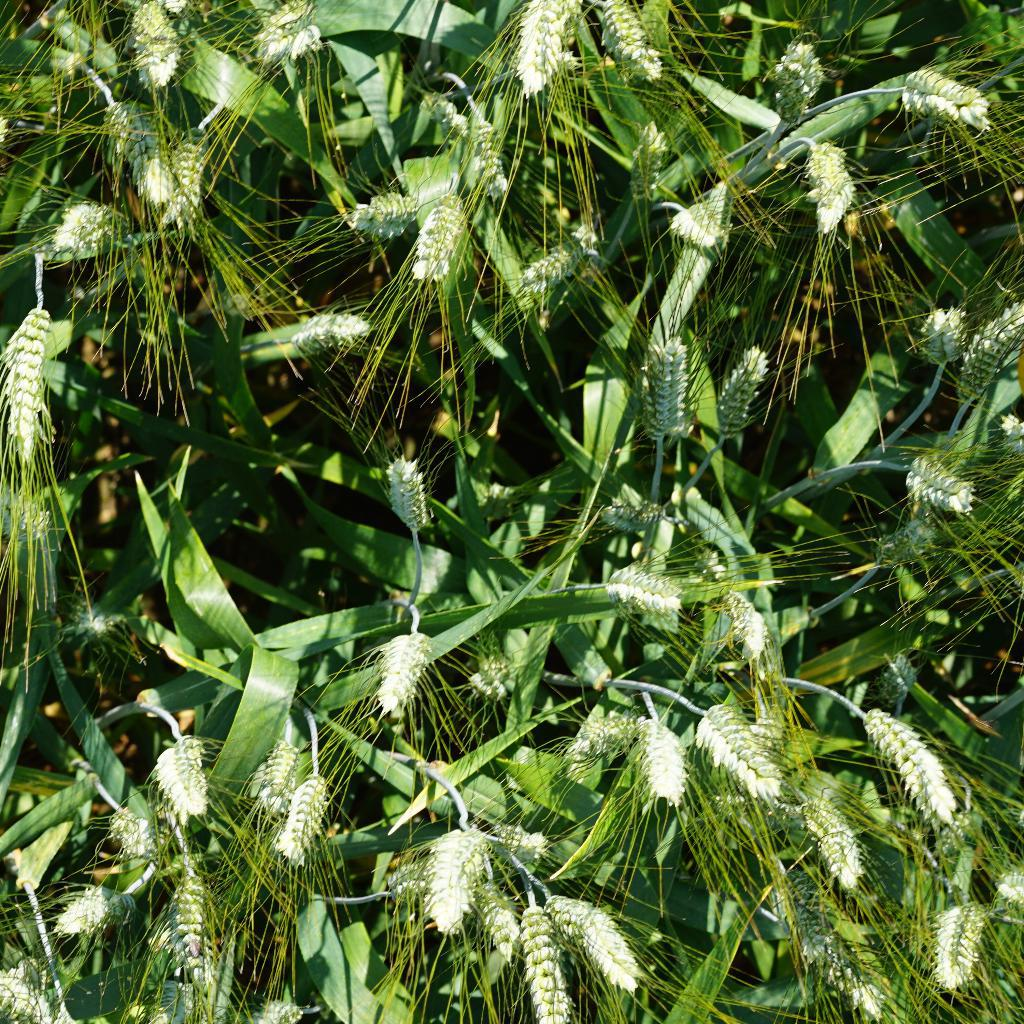0-0: (866, 705, 971, 830), (791, 905, 894, 1024), (546, 890, 653, 1001), (695, 698, 802, 806), (0, 288, 62, 468), (93, 81, 179, 210), (501, 885, 580, 1024), (888, 53, 1005, 139), (791, 774, 873, 892), (419, 807, 485, 948), (156, 845, 223, 976), (411, 185, 481, 298), (511, 219, 605, 303), (277, 751, 342, 870), (589, 0, 671, 93), (110, 0, 194, 90), (919, 896, 996, 994), (514, 0, 587, 103), (796, 137, 869, 234), (43, 863, 144, 933), (960, 294, 1023, 403), (373, 623, 441, 720), (44, 186, 123, 269), (149, 728, 221, 819), (900, 455, 985, 531), (632, 710, 698, 807), (641, 331, 694, 449), (90, 804, 175, 877), (716, 343, 776, 444), (717, 580, 785, 669), (481, 787, 559, 864), (765, 26, 822, 129), (377, 448, 441, 534), (468, 109, 524, 206), (250, 0, 329, 66), (564, 697, 636, 768), (610, 561, 695, 621), (473, 873, 525, 968), (168, 118, 217, 216), (246, 733, 303, 815), (904, 290, 968, 363), (619, 118, 673, 201), (869, 514, 946, 572), (57, 591, 127, 649), (337, 190, 422, 236), (294, 309, 372, 358), (381, 851, 448, 906), (0, 481, 54, 549), (929, 799, 989, 859), (666, 202, 730, 258), (463, 643, 523, 701), (0, 959, 51, 1024), (143, 967, 199, 1024), (875, 648, 922, 714), (605, 490, 665, 539)
